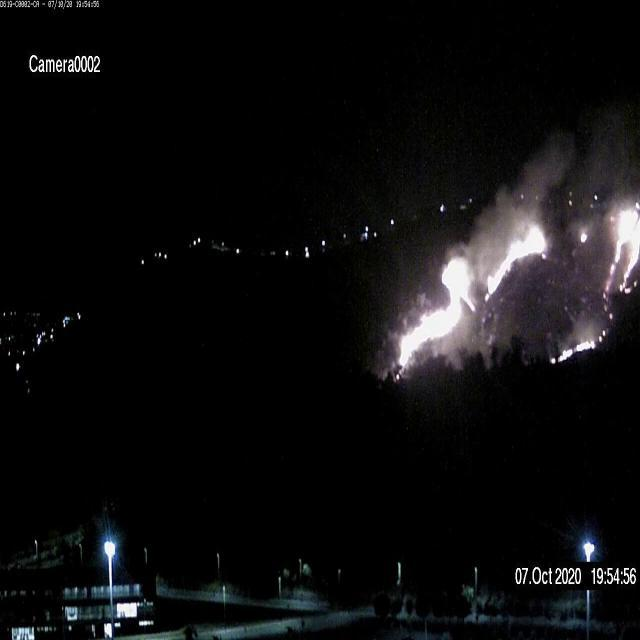Fire: (394, 253, 474, 367), (604, 202, 640, 302), (486, 231, 542, 293), (548, 334, 600, 366)
Smoke: (466, 184, 526, 274), (523, 131, 564, 207), (562, 314, 602, 341)
